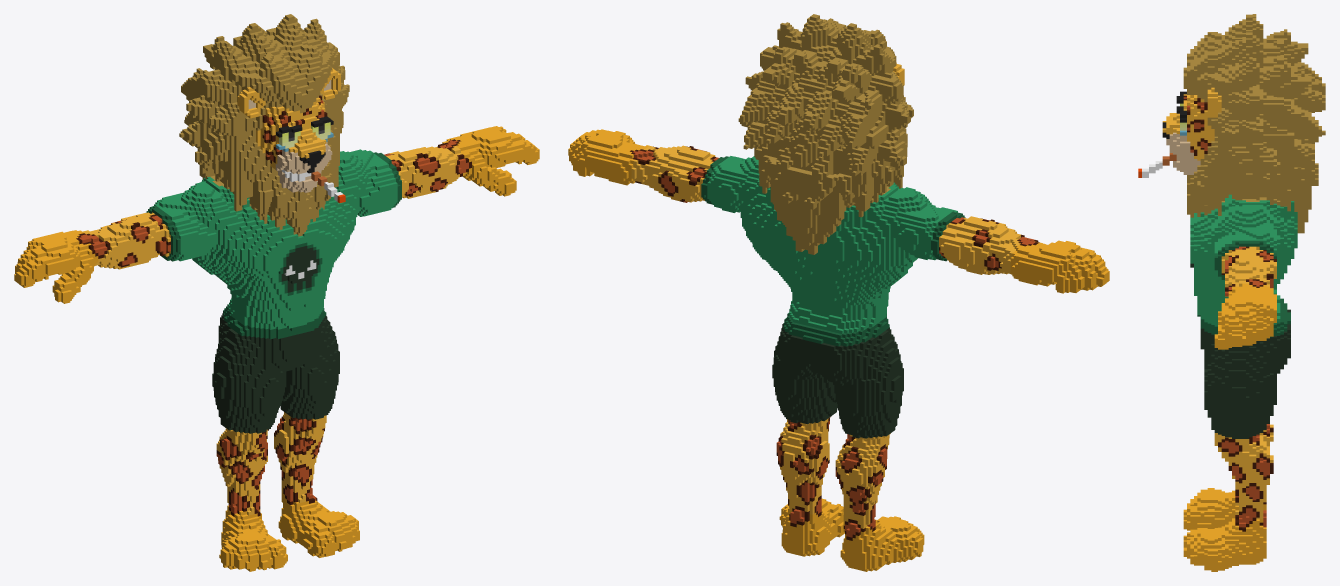
The model's file is 100-CMd3Ea_n.fbx.
3 renders of one model, left to right at view 1: azimuth 30°, elevation 25°; view 2: azimuth 150°, elevation 25°; view 3: azimuth 270°, elevation 25°, orthographic. The views are drawn at different scales.
Visible parts, largest first — view 1: cigarette; view 2: cigarette; view 3: cigarette.
Part boxes in pixels (bbox=[...]): cigarette: bbox=[14, 14, 539, 571]; cigarette: bbox=[568, 14, 1109, 571]; cigarette: bbox=[1138, 14, 1325, 571].
Bounding box in the file's own units: 17.2 × 16.5 × 5.4.
Materials: 5 (5 with a texture image).
